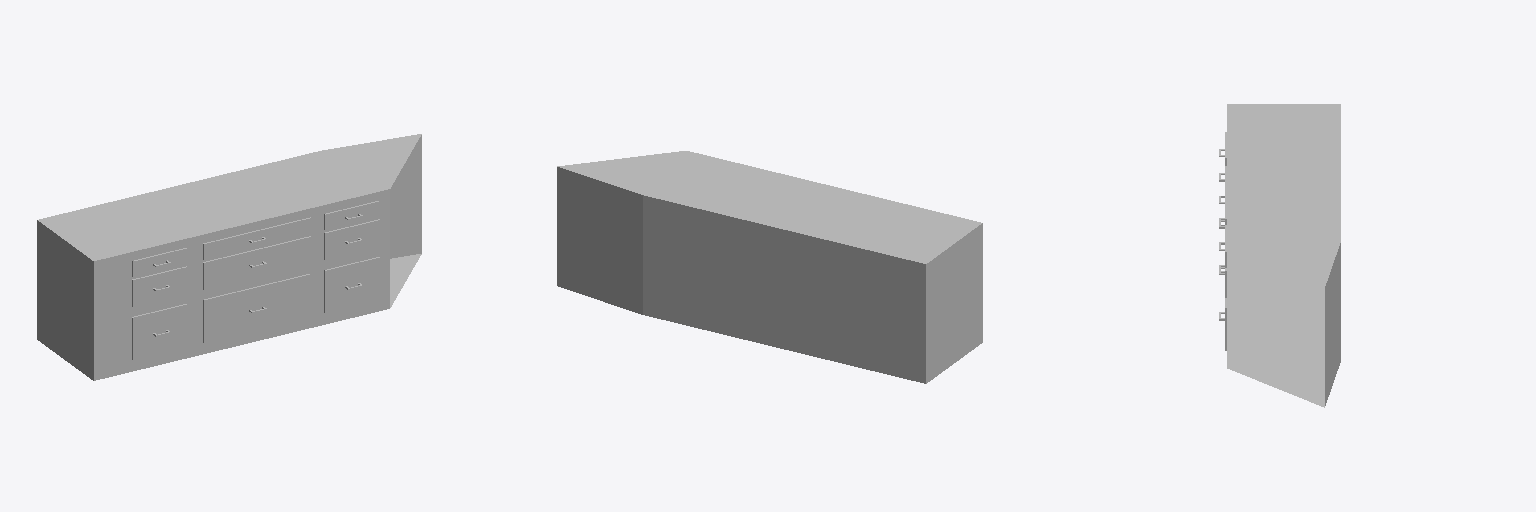
Rendered from kitchenTopFinal.obj.
3 renders of one model, left to right at view 1: azimuth 30°, elevation 25°; view 2: azimuth 150°, elevation 25°; view 3: azimuth 270°, elevation 25°, orthographic.
Parts seen in each view (by area): view 1: Top_Right_Drawer_geo; view 2: Top_Right_Drawer_geo; view 3: Top_Right_Drawer_geo.
Boxes of the visible parts, x1=… form: Top_Right_Drawer_geo: x1=37, y1=134, x2=421, y2=380; Top_Right_Drawer_geo: x1=557, y1=151, x2=982, y2=383; Top_Right_Drawer_geo: x1=1219, y1=104, x2=1340, y2=407.
Size of the model in its own units: 348 by 105 by 96.83.